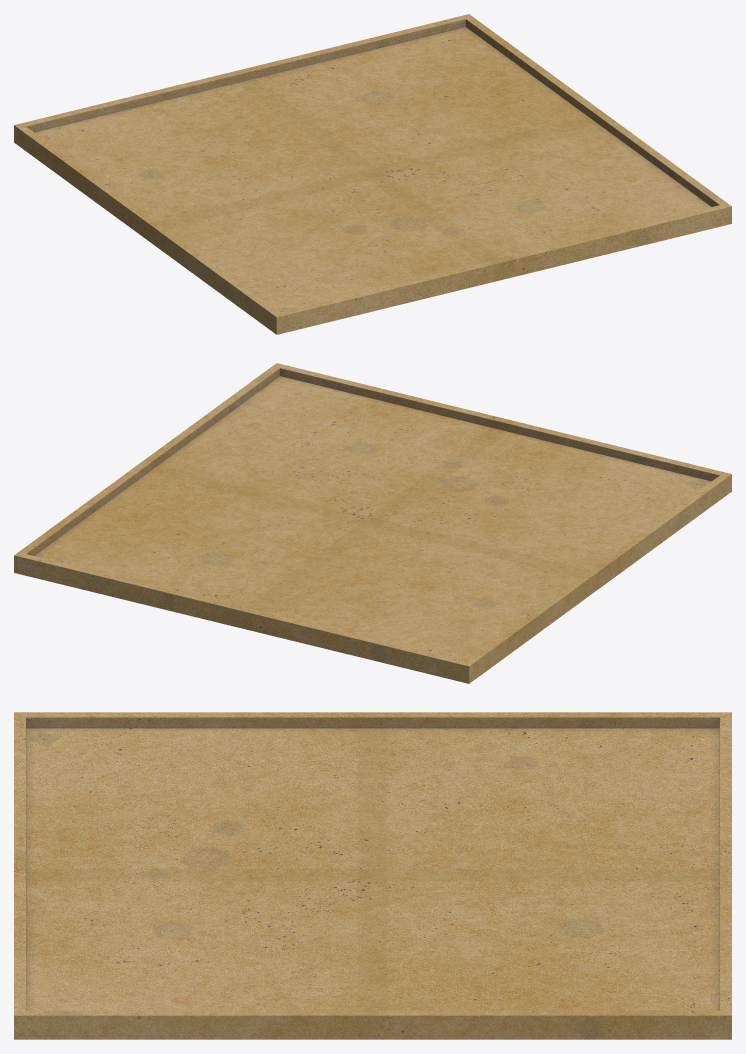
The model's file is SM_Floor01a.fbx.
3 views of the same model, one above another, from view 1: azimuth 30°, elevation 25°; view 2: azimuth 150°, elevation 25°; view 3: azimuth 270°, elevation 25° (orthographic). The views are drawn at different scales.
Visible parts, largest first — view 1: SM_Floor01a; view 2: SM_Floor01a; view 3: SM_Floor01a.
Part boxes in pixels (x1,y1,x2,y2): SM_Floor01a: (14, 14, 731, 334); SM_Floor01a: (14, 363, 731, 683); SM_Floor01a: (14, 712, 731, 1039).
Size of the model in its own units: 300 by 300 by 11.
Materials: 1 (1 with a texture image).
